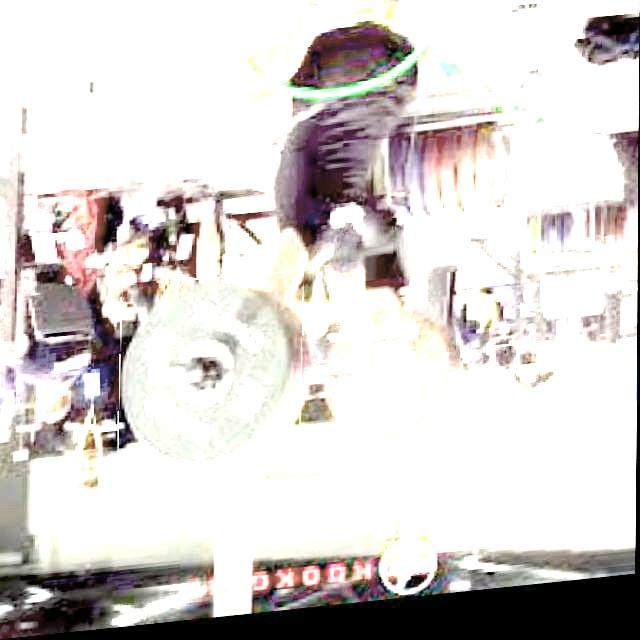barbell: (118, 275, 303, 482)
